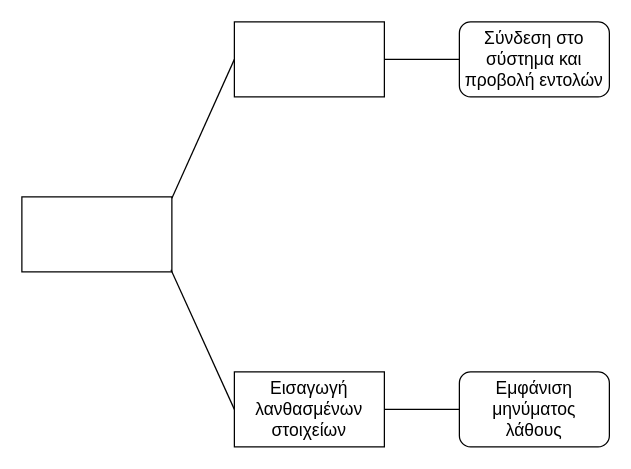
The diagram is 631 pixels wide and 469 high, and some of its shapes have lost their labels. The centre of each missing label's shape, as x and y in pixels:
"Εισαγωγή ορθών στοιχείων" goes at point (308, 59).
"Σύνδεση πελάτη στο σύστημα" goes at point (96, 234).
